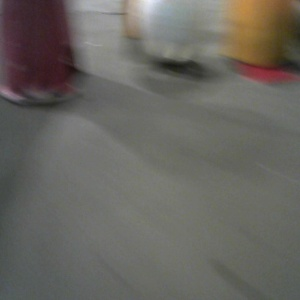right: (156, 1, 242, 61)
